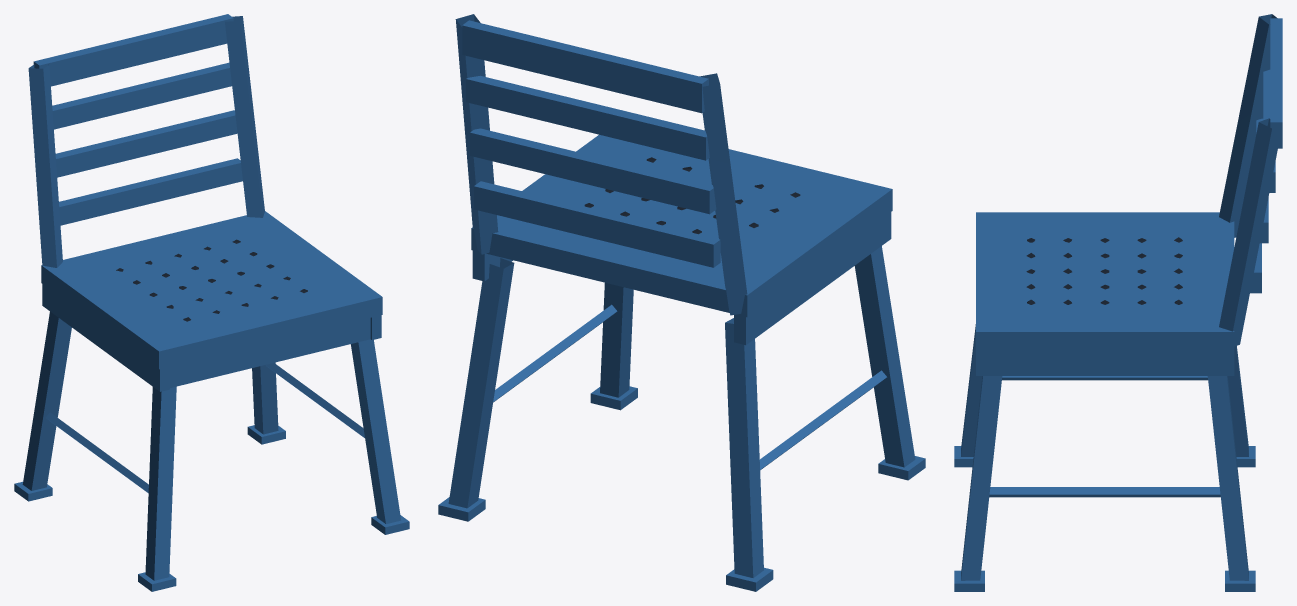
Rendered from ghe_dua_nhua.glb.
The picture shows the model from 3 angles, left to right: view 1: azimuth 30°, elevation 25°; view 2: azimuth 150°, elevation 25°; view 3: azimuth 270°, elevation 25°; orthographic projection. The views are drawn at different scales.
Visible parts, largest first — view 1: ghe_dua_nhua; view 2: ghe_dua_nhua; view 3: ghe_dua_nhua.
Boxes of the visible parts, x1=… form: ghe_dua_nhua: x1=14, y1=14, x2=409, y2=591; ghe_dua_nhua: x1=438, y1=14, x2=925, y2=591; ghe_dua_nhua: x1=954, y1=14, x2=1282, y2=591.
Size of the model in its own units: 0.53 by 0.817 by 0.5337.
